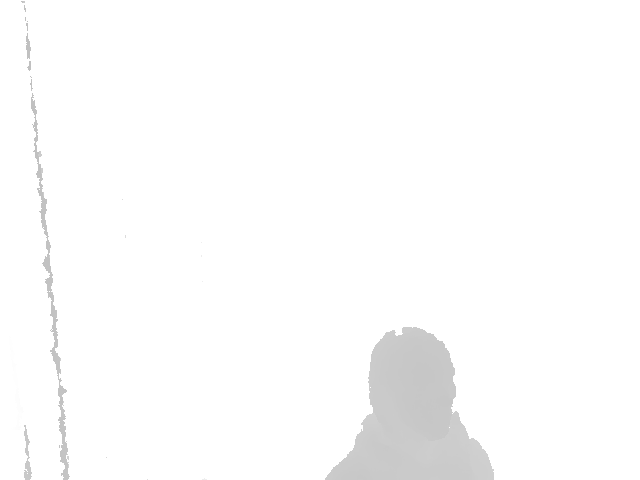head: (367, 326, 456, 438)
person: (325, 327, 496, 480)
